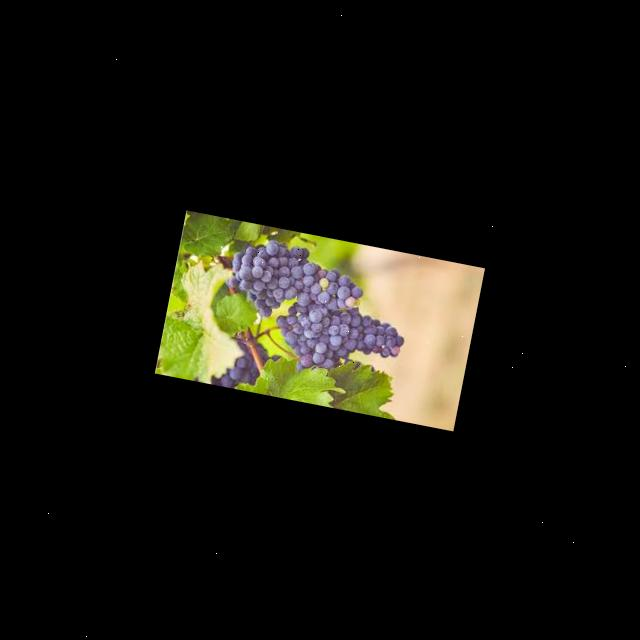grape: (212, 232, 418, 388)
